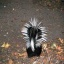skunk: (21, 17, 48, 56)
